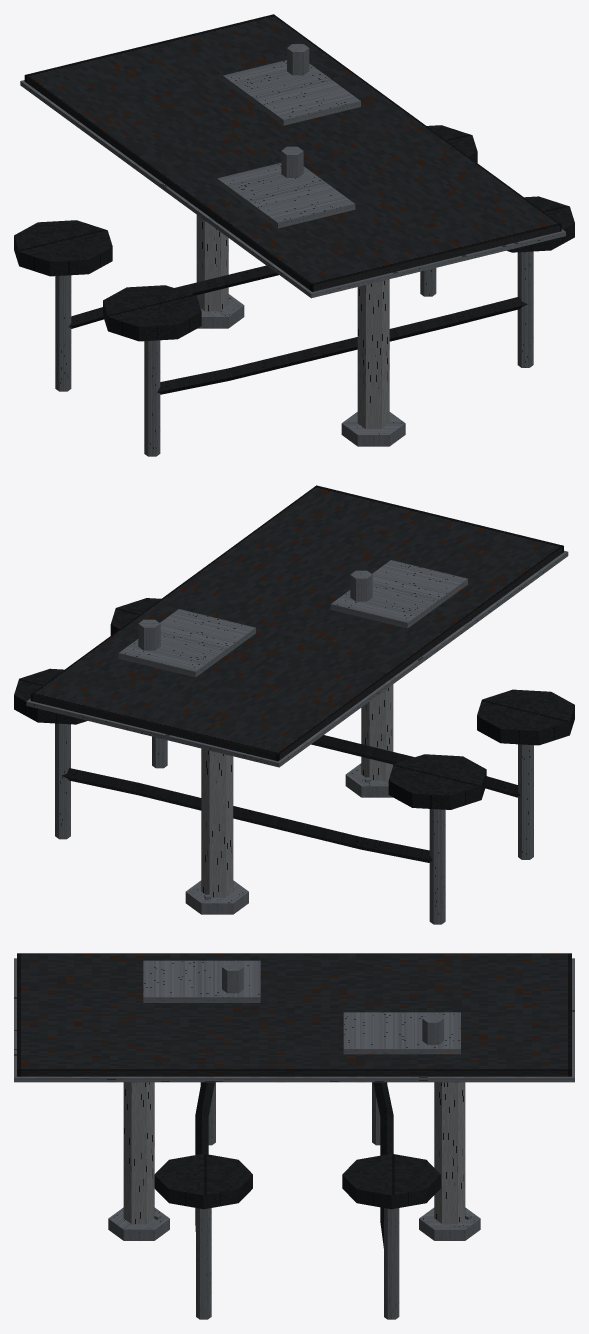
File: mess_table_medbay_clean.glb
3 views of the same model, one above another, from view 1: azimuth 30°, elevation 25°; view 2: azimuth 150°, elevation 25°; view 3: azimuth 270°, elevation 25° (orthographic). The views are drawn at different scales.
Parts seen in each view (by area): view 1: mess_table_medbay_clean; view 2: mess_table_medbay_clean; view 3: mess_table_medbay_clean.
Part boxes in pixels (bbox=[...]): mess_table_medbay_clean: bbox=[14, 14, 574, 456]; mess_table_medbay_clean: bbox=[14, 485, 574, 924]; mess_table_medbay_clean: bbox=[14, 953, 574, 1319].
Bounding box in the file's own units: 1.66 × 0.885 × 1.82.
4 materials, 4 textured.
